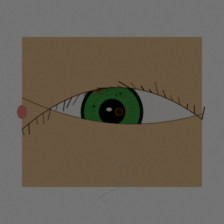foreign_body_visible: (100, 133, 124, 152)
